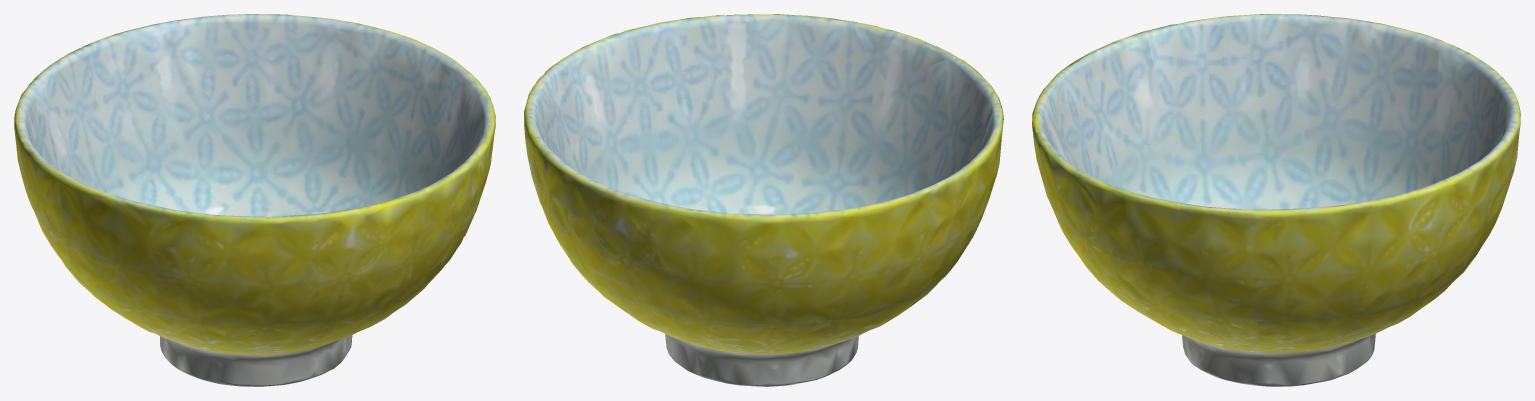
The model's file is bowl-small.glb.
3 views of the same model, side by side, from view 1: azimuth 30°, elevation 25°; view 2: azimuth 150°, elevation 25°; view 3: azimuth 270°, elevation 25° (orthographic).
Visible parts, largest first — view 1: Cole_Hardware_Bowl_Scirocco_YellowBlue; view 2: Cole_Hardware_Bowl_Scirocco_YellowBlue; view 3: Cole_Hardware_Bowl_Scirocco_YellowBlue.
Boxes of the visible parts, x1,y1,x2,y2 form: Cole_Hardware_Bowl_Scirocco_YellowBlue: [14, 14, 495, 386]; Cole_Hardware_Bowl_Scirocco_YellowBlue: [524, 14, 1003, 386]; Cole_Hardware_Bowl_Scirocco_YellowBlue: [1032, 14, 1520, 386].
Size of the model in its own units: 0.1135 by 0.0619 by 0.1148.
1 material, 1 textured.
